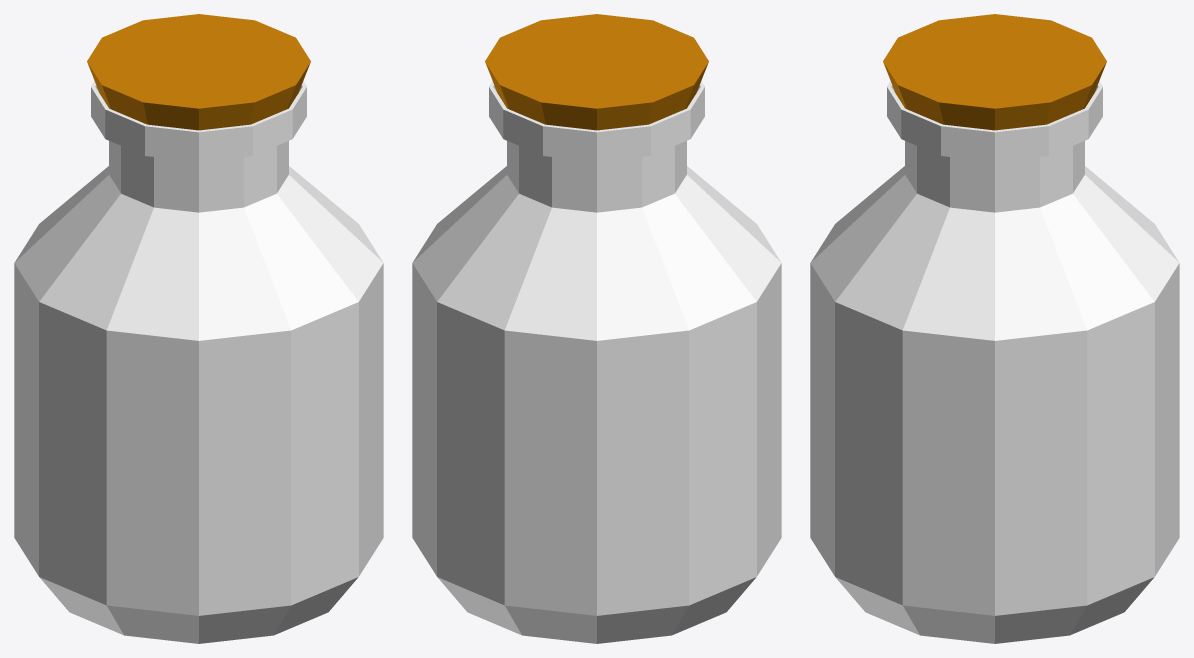
File: Potion_02.fbx
3 renders of one model, left to right at view 1: azimuth 30°, elevation 25°; view 2: azimuth 150°, elevation 25°; view 3: azimuth 270°, elevation 25°, orthographic.
Visible parts, largest first — view 1: Potion_02; view 2: Potion_02; view 3: Potion_02.
Boxes of the visible parts, x1,y1,x2,y2 form: Potion_02: (14, 14, 383, 643); Potion_02: (412, 14, 781, 643); Potion_02: (810, 14, 1179, 643).
Bounding box in the file's own units: 8.4 × 13.04 × 8.4.
